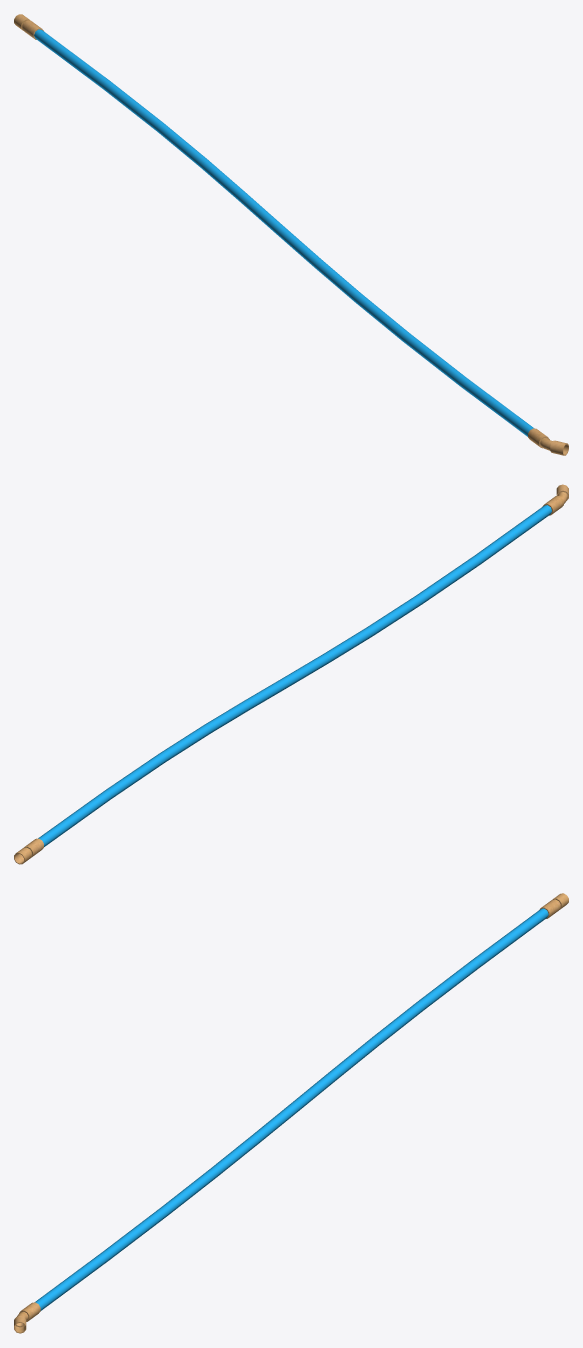
Rendered from wireblue.glb.
The picture shows the model from 3 angles, top to bottom: view 1: azimuth 30°, elevation 25°; view 2: azimuth 150°, elevation 25°; view 3: azimuth 330°, elevation 25°; orthographic projection.
Visible parts, largest first — view 1: wire blue3, wire blue10, wire blue4, wire blue9, wire blue5, wire blu6, wire blue8, wire blue7, nozzle blue_01; view 2: wire blue3, wire blue10, wire blue4, wire blue9, wire blue5, wire blu6, wire blue8, wire blue7, wire blue2, wire blue1, wire blue11; view 3: wire blue3, wire blue10, wire blue4, wire blue9, wire blue5, wire blu6, wire blue8, wire blue7.
Boxes of the visible parts, x1,y1,x2,y2 form: wire blue3: (401, 332, 465, 385); wire blue10: (102, 80, 163, 131); wire blue4: (353, 293, 408, 340); wire blue9: (156, 123, 206, 167); wire blue5: (312, 257, 360, 301); wire blu6: (274, 224, 319, 265); wire blue8: (199, 159, 244, 200); wire blue7: (237, 191, 281, 232); nozzle blue_01: (528, 428, 568, 455); wire blue3: (416, 555, 481, 603); wire blue10: (105, 753, 166, 798); wire blue4: (367, 595, 423, 635); wire blue9: (160, 724, 211, 761); wire blue5: (324, 627, 373, 662); wire blu6: (283, 653, 330, 686); wire blue8: (205, 700, 251, 733); wire blue7: (244, 677, 290, 709); wire blue2: (474, 530, 516, 563); wire blue1: (510, 505, 551, 538); wire blue11: (70, 790, 112, 823); wire blue3: (103, 1207, 168, 1260); wire blue10: (418, 959, 479, 1009); wire blue4: (161, 1168, 217, 1215); wire blue9: (372, 1001, 425, 1045); wire blue5: (210, 1133, 261, 1176); wire blu6: (254, 1100, 301, 1141); wire blue8: (333, 1036, 380, 1077); wire blue7: (294, 1069, 340, 1108).
Size of the model in its own units: 0.0178 by 0.0382 by 0.903.
1 material, 1 textured.
